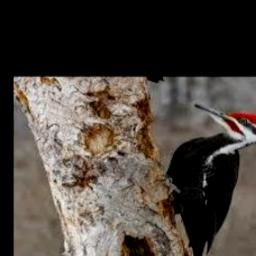Woodpecker: (165, 103, 256, 256)
